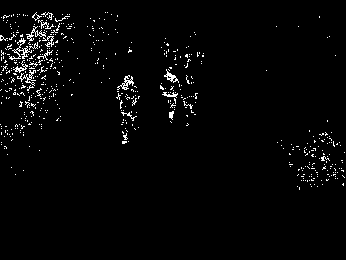person: (115, 74, 140, 146), (159, 67, 179, 125), (180, 73, 201, 125)
